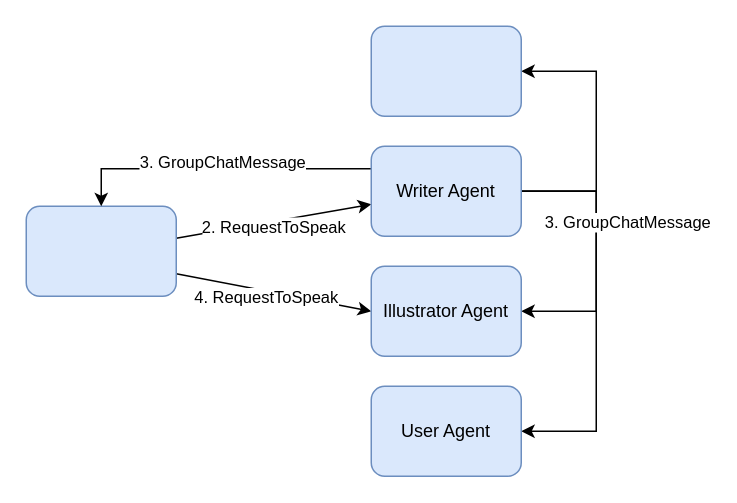
The diagram is 737 pixels wide and 503 high, and some of its shapes have lost their labels. The shapes that lost their labels are listed below. From the top down, each one's box as (x1, y1, x2, y2) in pixels, then its label:
(370, 25, 521, 116): Editor Agent
(25, 205, 176, 296): Group Chat Manager Agent
